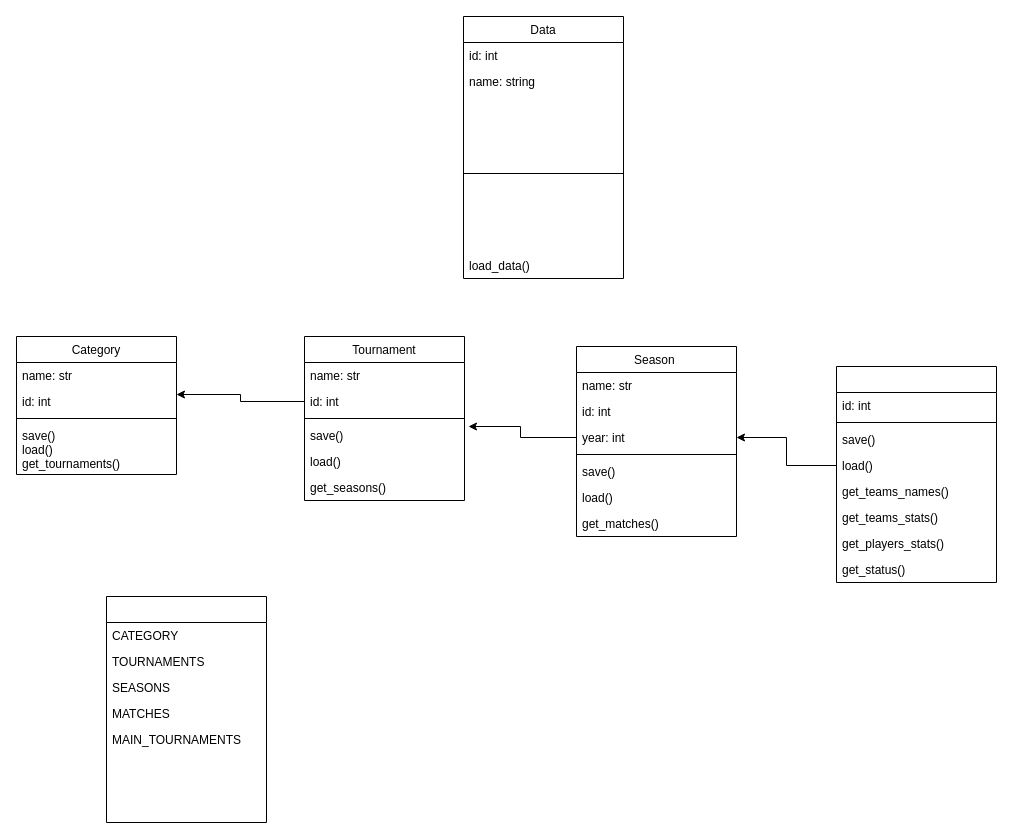
Image size: 1013x839. Some labels were removed from this diagram. Each missing label, with the box of its shape:
Match: (836, 366, 996, 582)
Urls: (106, 596, 266, 822)
